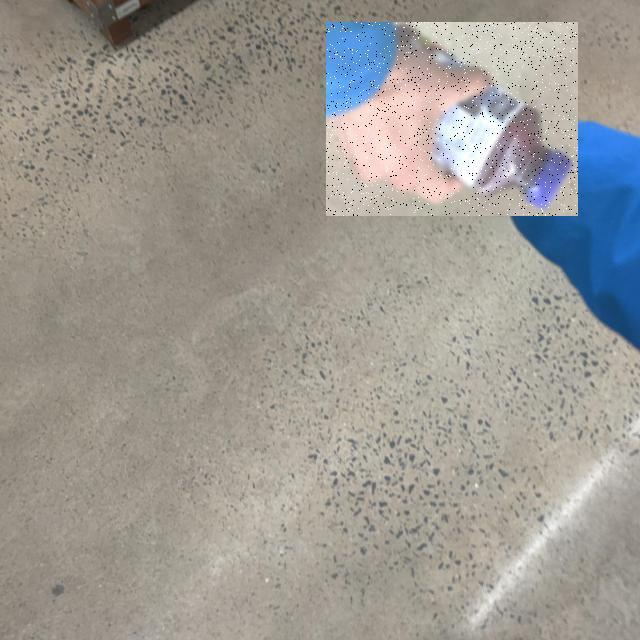Juice: (326, 22, 578, 216)
